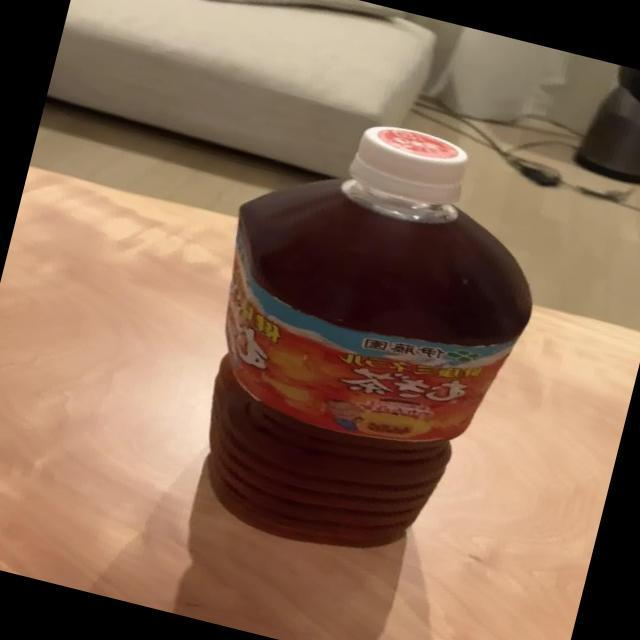good: (166, 94, 567, 580)
